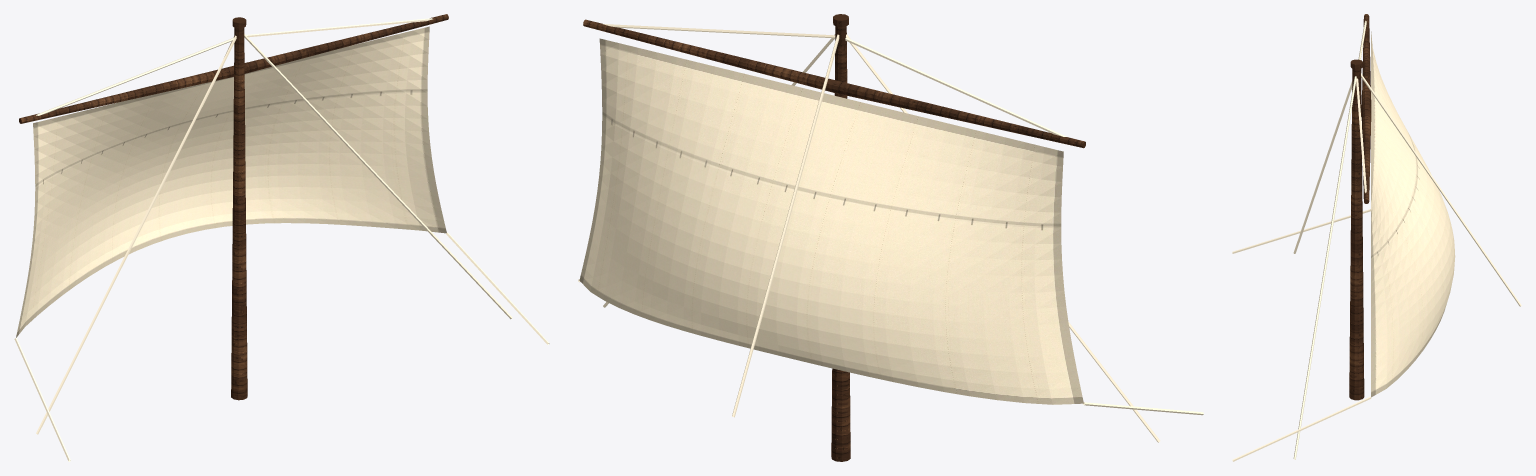
Rendered from ship-sail.glb.
3 renders of one model, left to right at view 1: azimuth 30°, elevation 25°; view 2: azimuth 150°, elevation 25°; view 3: azimuth 270°, elevation 25°, orthographic. The views are drawn at different scales.
Visible parts, largest first — view 1: ship-sail; view 2: ship-sail; view 3: ship-sail.
Boxes of the visible parts, <box> form: ship-sail: <box>14,14,549,461</box>; ship-sail: <box>578,14,1203,461</box>; ship-sail: <box>1232,14,1521,461</box>.
Size of the model in its own units: 11.15 by 8.34 by 6.53.
Materials: 3 (2 with a texture image).
